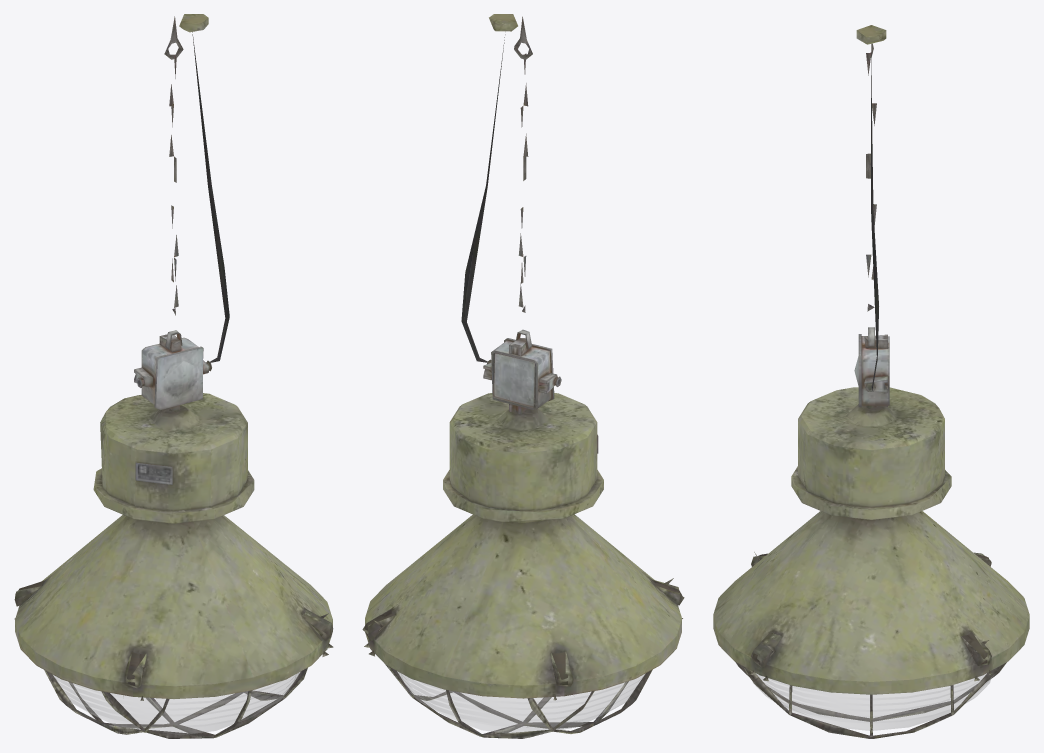
File: lampHang.glb
3 renders of one model, left to right at view 1: azimuth 30°, elevation 25°; view 2: azimuth 150°, elevation 25°; view 3: azimuth 270°, elevation 25°, orthographic.
Parts seen in each view (by area): view 1: hanging_industrial_lamp; view 2: hanging_industrial_lamp; view 3: hanging_industrial_lamp.
Part boxes in pixels (x1,y1,x2,y2): hanging_industrial_lamp: (14,14,333,738); hanging_industrial_lamp: (362,14,684,738); hanging_industrial_lamp: (713,25,1029,738).
Bounding box in the file's own units: 0.5497 × 1.36 × 0.5497.
2 materials, 1 textured.
